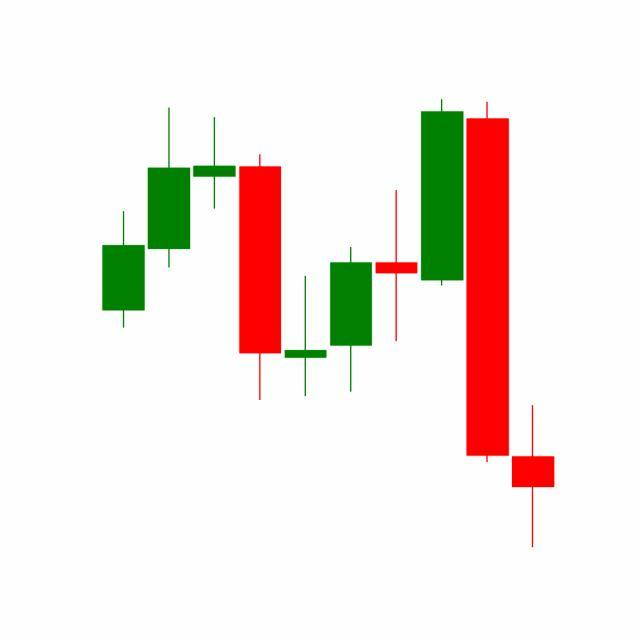Hikkake Pattern: (283, 99, 512, 467)
